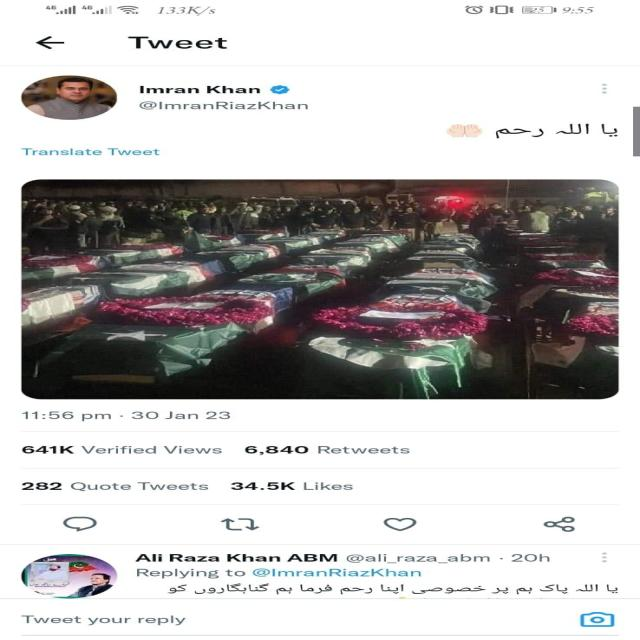button: (349, 504, 450, 546), (34, 504, 136, 544), (184, 506, 284, 545), (514, 506, 603, 542), (26, 27, 81, 59), (570, 610, 622, 631), (576, 80, 622, 100)
field: (0, 598, 637, 637)
heading: (126, 33, 242, 53)
image: (18, 177, 620, 399), (13, 552, 119, 599), (17, 73, 120, 120)
label: (18, 611, 190, 628)
link: (20, 146, 166, 158)
text: (11, 403, 454, 496), (123, 548, 640, 598), (130, 81, 322, 115)
